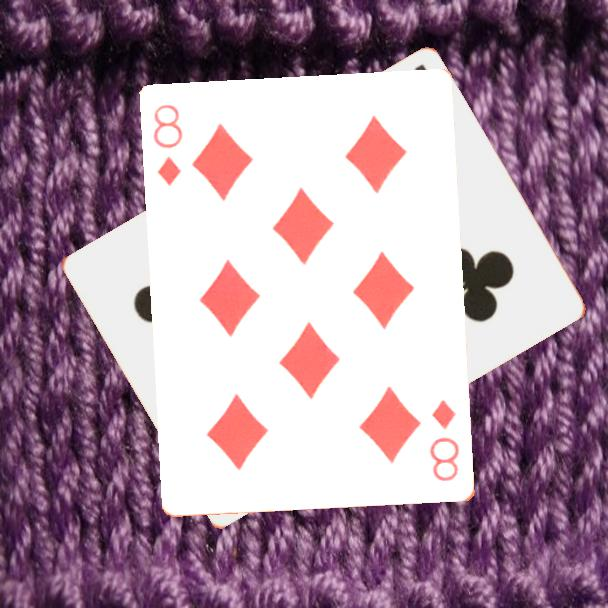d08: (427, 396, 463, 485), (150, 101, 186, 189)
